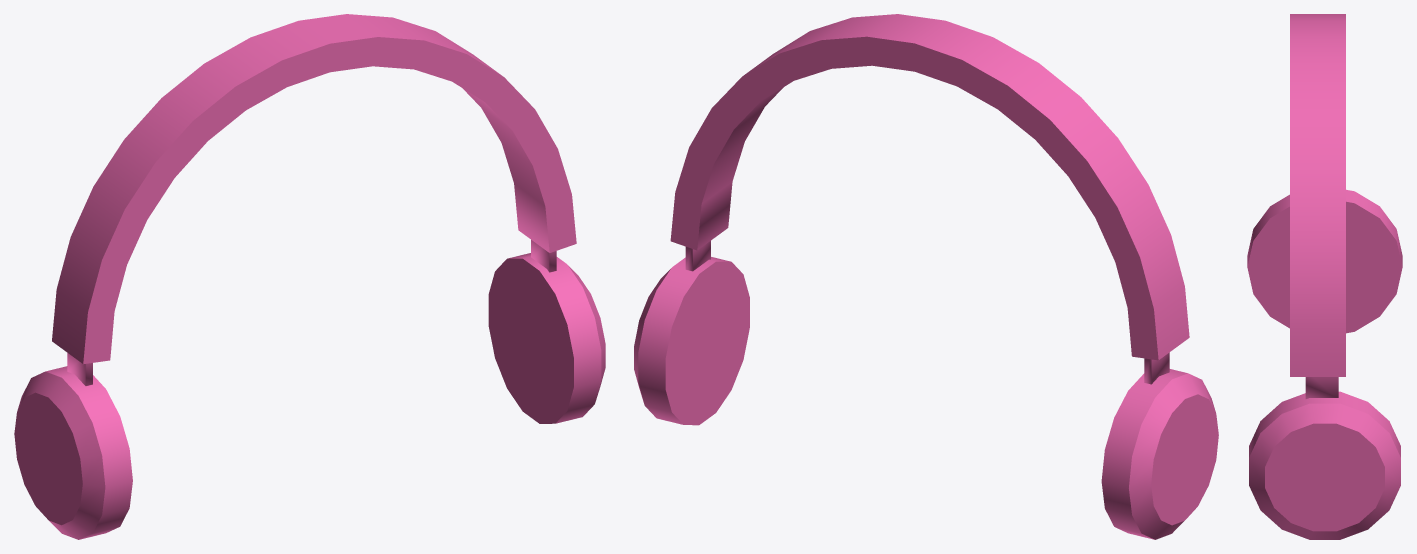
File: audifonos.fbx
The picture shows the model from 3 angles, left to right: view 1: azimuth 30°, elevation 25°; view 2: azimuth 150°, elevation 25°; view 3: azimuth 270°, elevation 25°; orthographic projection. The views are drawn at different scales.
Visible parts, largest first — view 1: ACESORIO8; view 2: ACESORIO8; view 3: ACESORIO8.
Part boxes in pixels (x1,y1,x2,y2): ACESORIO8: [14, 14, 605, 539]; ACESORIO8: [634, 14, 1218, 539]; ACESORIO8: [1247, 14, 1402, 539].
Bounding box in the file's own units: 225 × 182 × 64.83.
